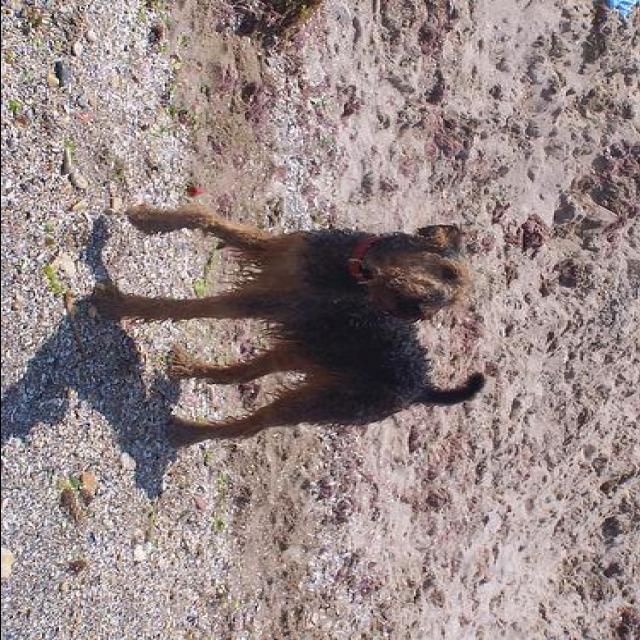airedale: (86, 200, 486, 450)
